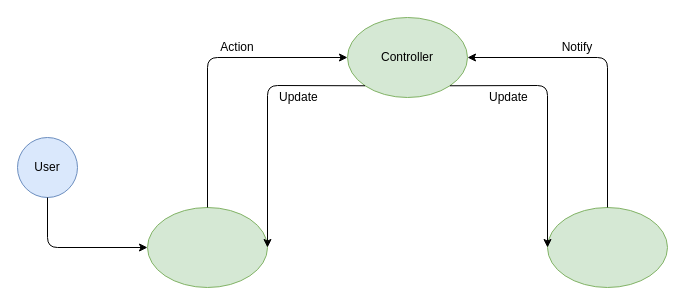
This 685x305 diagram has some shape labels left out. The centre of each missing label's shape, as x and y in pixels:
"Model" goes at pixel 607 247.
"View" goes at pixel 207 247.
